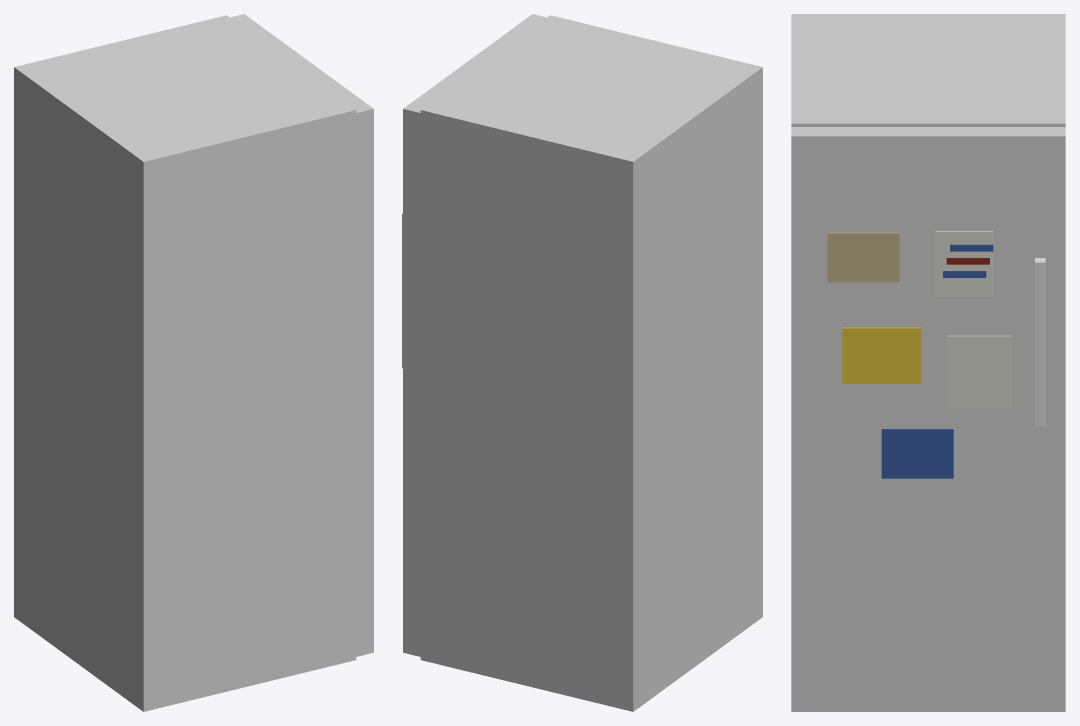
The model's file is hood_fridge.glb.
3 views of the same model, side by side, from view 1: azimuth 30°, elevation 25°; view 2: azimuth 150°, elevation 25°; view 3: azimuth 270°, elevation 25° (orthographic). The views are drawn at different scales.
Parts seen in each view (by area): view 1: back.001, door; view 2: back.001, door; view 3: door, back.001, drawing.004, drawing.001, drawing.005, photo, handle.
Boxes of the visible parts, x1=… form: back.001: x1=14, y1=15, x2=356, y2=711; door: x1=230, y1=14, x2=373, y2=656; back.001: x1=420, y1=15, x2=762, y2=711; door: x1=403, y1=14, x2=546, y2=656; door: x1=791, y1=127, x2=1065, y2=711; back.001: x1=791, y1=14, x2=1065, y2=126; drawing.004: x1=935, y1=231, x2=1011, y2=408; drawing.001: x1=842, y1=327, x2=921, y2=383; drawing.005: x1=881, y1=244, x2=993, y2=478; photo: x1=827, y1=232, x2=899, y2=282; handle: x1=1035, y1=258, x2=1045, y2=426.
Size of the model in its own units: 0.815 by 1.78 by 0.76.
